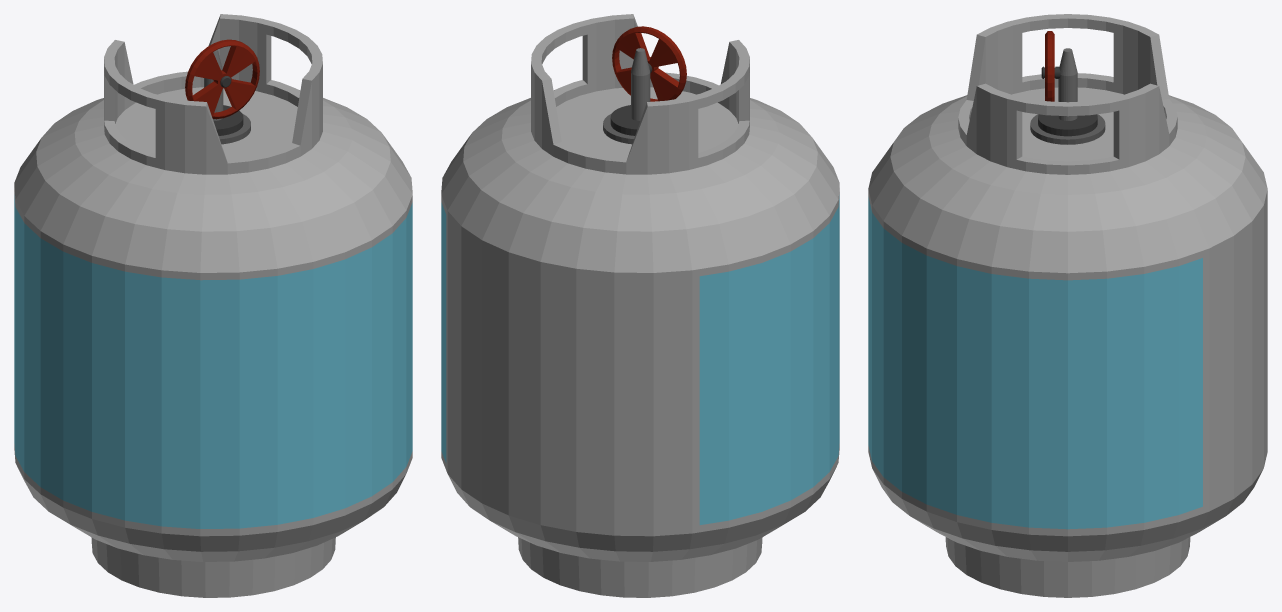
File: Propaine Tank.fbx
3 renders of one model, left to right at view 1: azimuth 30°, elevation 25°; view 2: azimuth 150°, elevation 25°; view 3: azimuth 270°, elevation 25°, orthographic.
Visible parts, largest first — view 1: Propaine Tank; view 2: Propaine Tank; view 3: Propaine Tank.
Part boxes in pixels (bbox=[...]): Propaine Tank: bbox=[14, 14, 412, 597]; Propaine Tank: bbox=[441, 14, 839, 597]; Propaine Tank: bbox=[868, 14, 1267, 597].
Size of the model in its own units: 45.52 by 64.34 by 45.52.
Materials: 1 (1 with a texture image).
